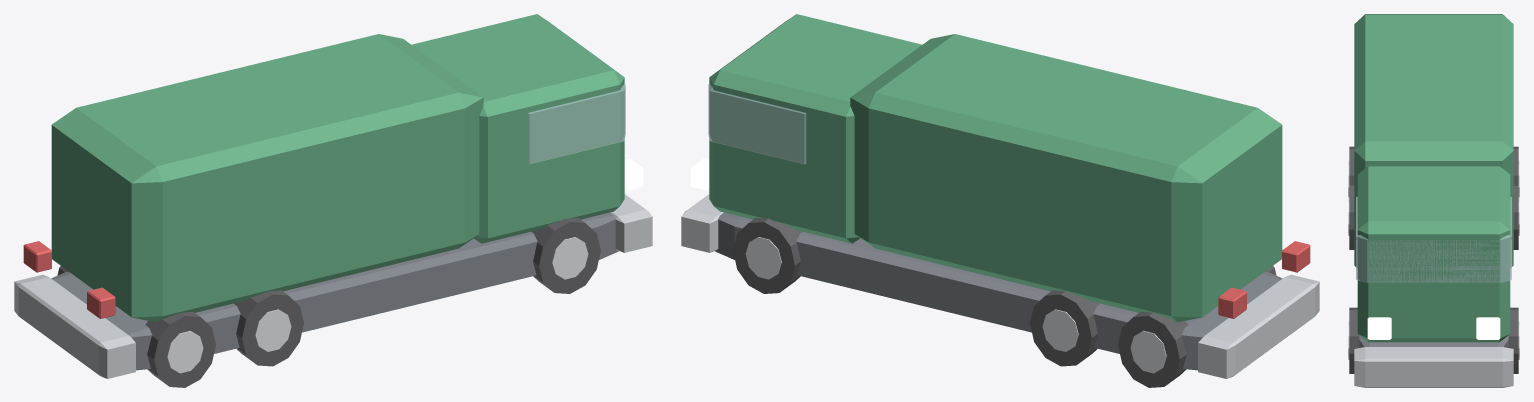
Rendered from b15_split_body_recycling_truck.glb.
3 views of the same model, side by side, from view 1: azimuth 30°, elevation 25°; view 2: azimuth 150°, elevation 25°; view 3: azimuth 270°, elevation 25° (orthographic). The views are drawn at different scales.
Parts seen in each view (by area): view 1: b15_split_body_recycling_truck; view 2: b15_split_body_recycling_truck; view 3: b15_split_body_recycling_truck.
Boxes of the visible parts, box(x1,y1,x2,y2) form: b15_split_body_recycling_truck: box(14, 14, 652, 387); b15_split_body_recycling_truck: box(681, 14, 1319, 387); b15_split_body_recycling_truck: box(1348, 14, 1519, 387).
Size of the model in its own units: 9.23 by 3.52 by 2.91.
